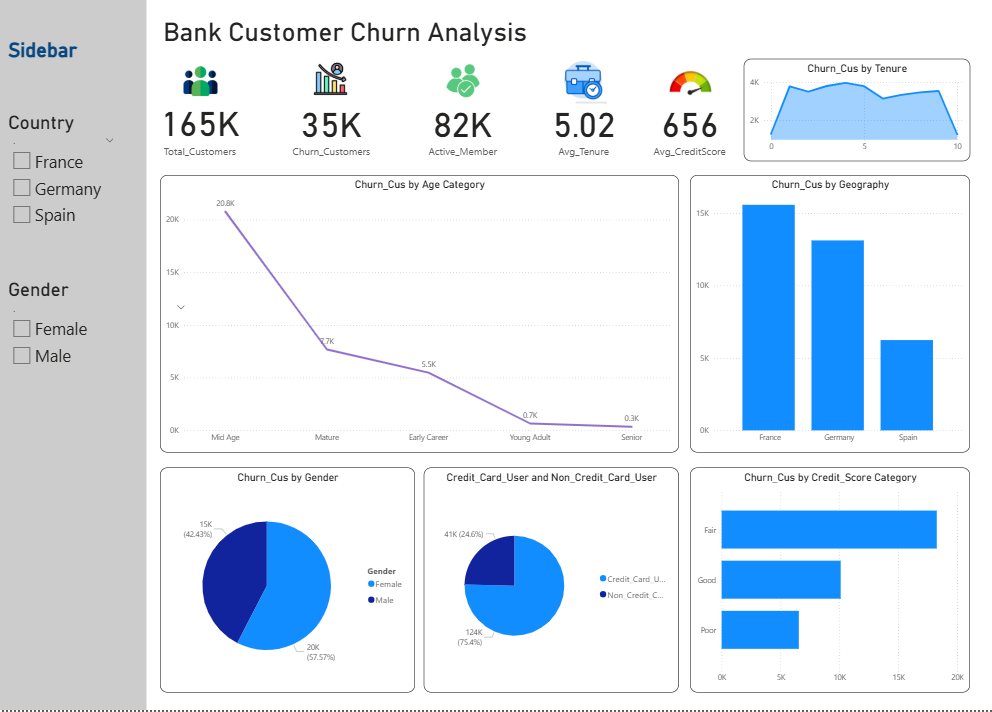

Layout of this report page (visuals, bound fields, positions):
{"tool":"powerbi","page":{"name":"Page 1","canvas":[1591,1139],"ordinal":0},"visuals":[{"type":"card","fields":{"Values":["CountNonNull(train.CustomerId)"]},"box":[234,148,172,110],"z":0},{"type":"card","fields":{"Values":["train.Churn_Cus"]},"box":[443.1,145,172.9,120],"z":1000},{"type":"image","box":[284,98,74,64],"z":2000},{"type":"image","box":[491.7,94.6,74.3,64.3],"z":3000},{"type":"card","fields":{"Values":["train.Active_Member"]},"box":[653.1,145,172.9,120],"z":4000},{"type":"image","box":[703.1,98.9,74.3,62.9],"z":5000},{"type":"card","fields":{"Values":["Avg(train.Tenure)"]},"box":[847.4,145,172,120],"z":6000},{"type":"image","box":[890.3,84.6,85.7,87.1],"z":7000},{"type":"card","fields":{"Values":["Avg(train.CreditScore)"]},"box":[1017.4,145,171.4,120],"z":8000},{"type":"image","box":[1043.1,74.6,121.4,104.3],"z":9000},{"type":"clusteredColumnChart","fields":{"Category":["train.Geography"],"Y":["train.Churn_Cus"]},"box":[1104,280,448,444],"z":10000},{"type":"pieChart","fields":{"Category":["train.Gender"],"Y":["train.Churn_Cus"]},"box":[256,748,408,360],"z":11000},{"type":"lineChart","fields":{"Category":["train.Age Category"],"Y":["train.Churn_Cus"]},"box":[256,280,830,444],"z":12000},{"type":"pieChart","fields":{"Y":["train.Credit_card","train.No_credit_card"]},"box":[678,748,408,360],"z":13000},{"type":"clusteredBarChart","fields":{"Category":["train.Credit_Score Category"],"Y":["train.Churn_Cus"]},"box":[1104,748,448,360],"z":14000},{"type":"stackedAreaChart","fields":{"Category":["train.Tenure"],"Y":["train.Churn_Cus"]},"box":[1190,94,362,164],"z":15000},{"type":"textbox","box":[0,0,234,1140],"z":16000},{"type":"textbox","title":"Sidebar","box":[8,60,218,74],"z":17000},{"type":"slicer","title":"Country","fields":{"Values":["train.Geography"]},"box":[8,178,186,222],"z":18000},{"type":"slicer","title":"Gender","fields":{"Values":["train.Gender"]},"box":[8,446,300,204],"z":19000},{"type":"textbox","title":"Bank Customer Churn Analysis","box":[256,26,664,104],"z":20000}]}

Visuals, with their boxes in screenshot pixels (x1, y1, x2, y2):
card - CountNonNull(train.CustomerId): [left=154, top=99, right=260, bottom=166]
card - train.Churn_Cus: [left=283, top=97, right=389, bottom=171]
image: [left=185, top=68, right=230, bottom=107]
image: [left=313, top=66, right=358, bottom=105]
card - train.Active_Member: [left=412, top=97, right=518, bottom=171]
image: [left=443, top=69, right=488, bottom=107]
card - Avg(train.Tenure): [left=531, top=97, right=637, bottom=171]
image: [left=558, top=60, right=610, bottom=113]
card - Avg(train.CreditScore): [left=636, top=97, right=741, bottom=171]
image: [left=652, top=54, right=726, bottom=118]
clusteredColumnChart - train.Geography x train.Churn_Cus: [left=689, top=180, right=965, bottom=453]
pieChart - train.Gender x train.Churn_Cus: [left=168, top=468, right=419, bottom=689]
lineChart - train.Age Category x train.Churn_Cus: [left=168, top=180, right=678, bottom=453]
pieChart - train.Credit_card x train.No_credit_card: [left=427, top=468, right=678, bottom=689]
clusteredBarChart - train.Credit_Score Category x train.Churn_Cus: [left=689, top=468, right=965, bottom=689]
stackedAreaChart - train.Tenure x train.Churn_Cus: [left=742, top=66, right=965, bottom=166]
textbox: [left=10, top=8, right=154, bottom=709]
"Sidebar" textbox: [left=15, top=45, right=149, bottom=90]
"Country" slicer: [left=15, top=117, right=130, bottom=254]
"Gender" slicer: [left=15, top=282, right=200, bottom=407]
"Bank Customer Churn Analysis" textbox: [left=168, top=24, right=576, bottom=88]
